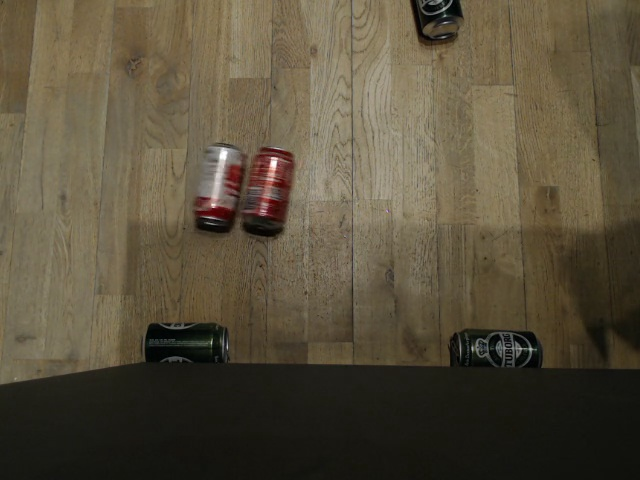beer: (140, 319, 227, 361), (448, 327, 540, 365), (410, 0, 463, 41)
cola: (188, 140, 246, 226), (239, 143, 294, 229)
